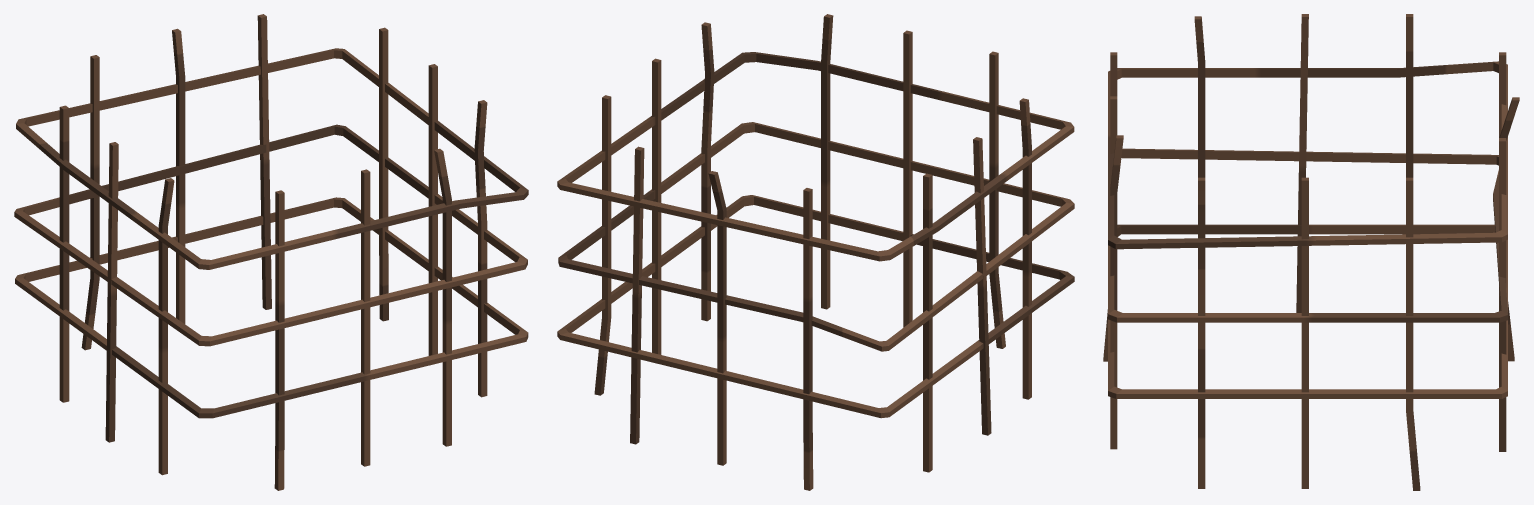
The model's file is SM_Bld_ConcreteRebar_Pillar_01.fbx.
3 renders of one model, left to right at view 1: azimuth 30°, elevation 25°; view 2: azimuth 150°, elevation 25°; view 3: azimuth 270°, elevation 25°, orthographic. The views are drawn at different scales.
Parts seen in each view (by area): view 1: SM_Bld_ConcreteRebar_Pillar_01; view 2: SM_Bld_ConcreteRebar_Pillar_01; view 3: SM_Bld_ConcreteRebar_Pillar_01.
Part boxes in pixels (x1,y1,x2,y2): SM_Bld_ConcreteRebar_Pillar_01: (14, 14, 528, 490); SM_Bld_ConcreteRebar_Pillar_01: (557, 14, 1074, 490); SM_Bld_ConcreteRebar_Pillar_01: (1103, 14, 1519, 490).
Size of the model in its own units: 139 by 116 by 142.
